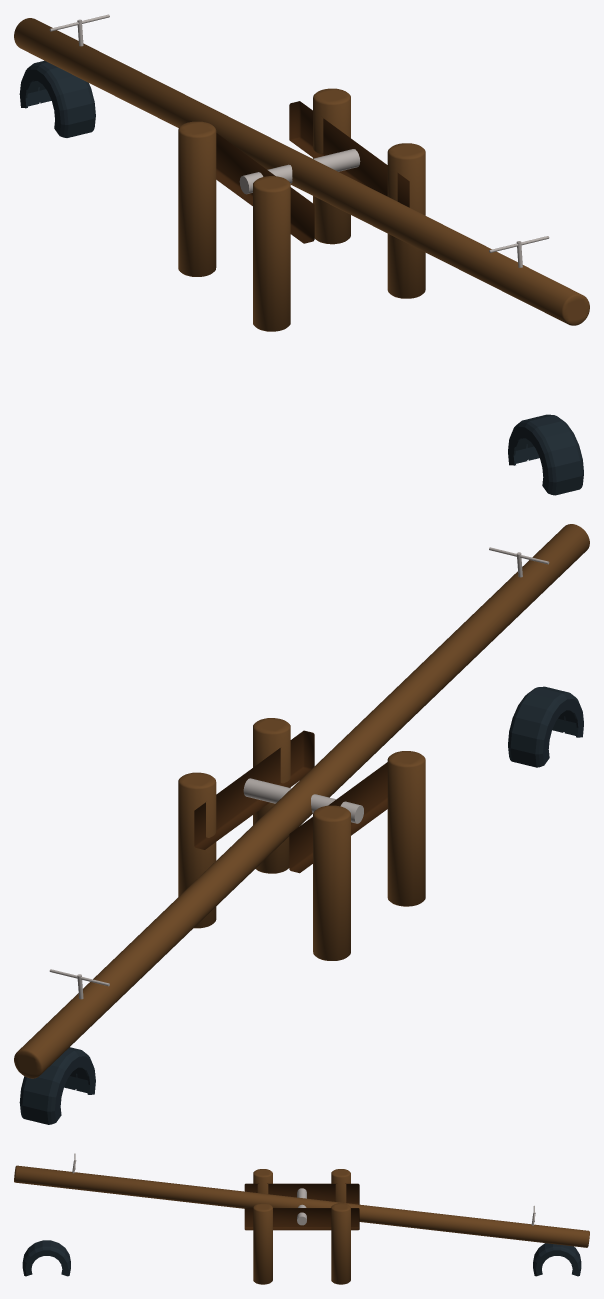
The model's file is Wippe.fbx.
3 renders of one model, top to bottom at view 1: azimuth 30°, elevation 25°; view 2: azimuth 150°, elevation 25°; view 3: azimuth 270°, elevation 25°, orthographic. The views are drawn at different scales.
Parts seen in each view (by area): view 1: Wippe; view 2: Wippe; view 3: Wippe.
Boxes of the visible parts, bbox=[...] form: Wippe: bbox=[14, 14, 589, 495]; Wippe: bbox=[14, 524, 589, 1124]; Wippe: bbox=[14, 1153, 589, 1284].
Bounding box in the file's own units: 71.63 × 87.95 × 408.
Materials: 1 (1 with a texture image).
